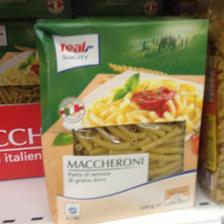Nudeln: (32, 18, 208, 222)
